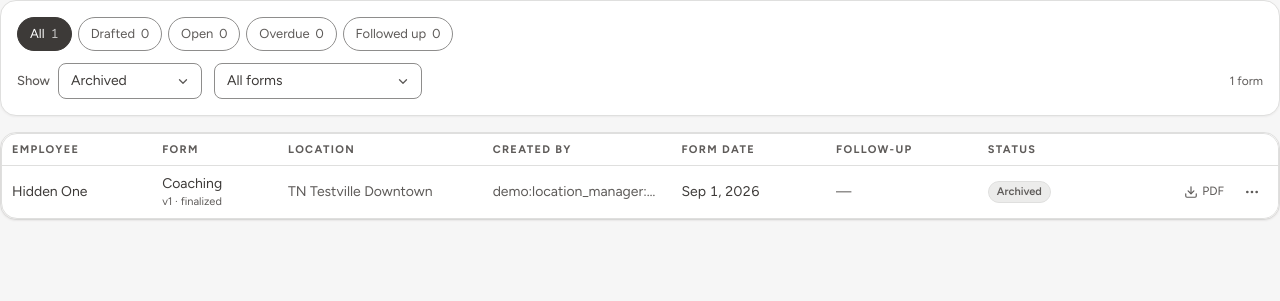
Scenario: delete and archive still work as they did › offers Restore on an archived row
What coordinates should you click on to do the following:
click the button named "more actions"
I would click on:
 (1252, 192)
Its box is [1236,176,1268,208].
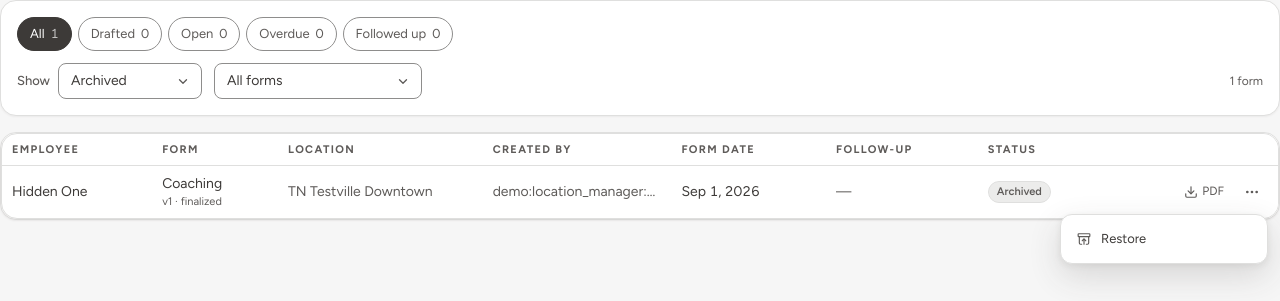
Check: the menu item "Restore" is shown, box [1077,231,1146,246]
